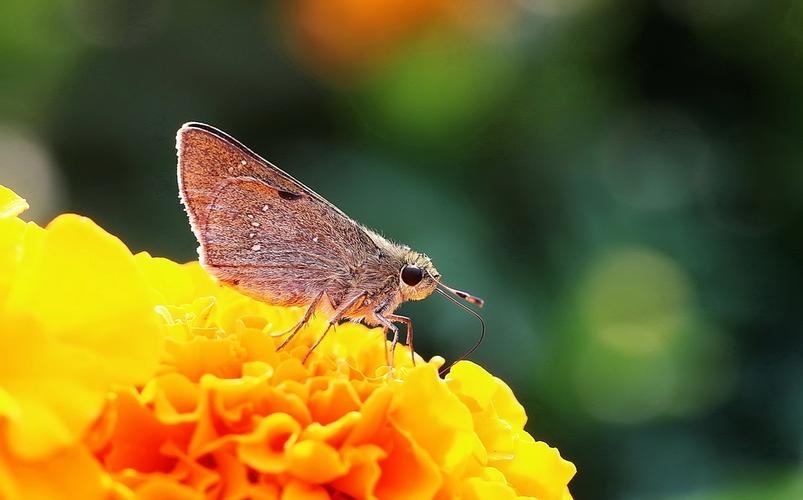Hesperiidae: (172, 120, 484, 377)
